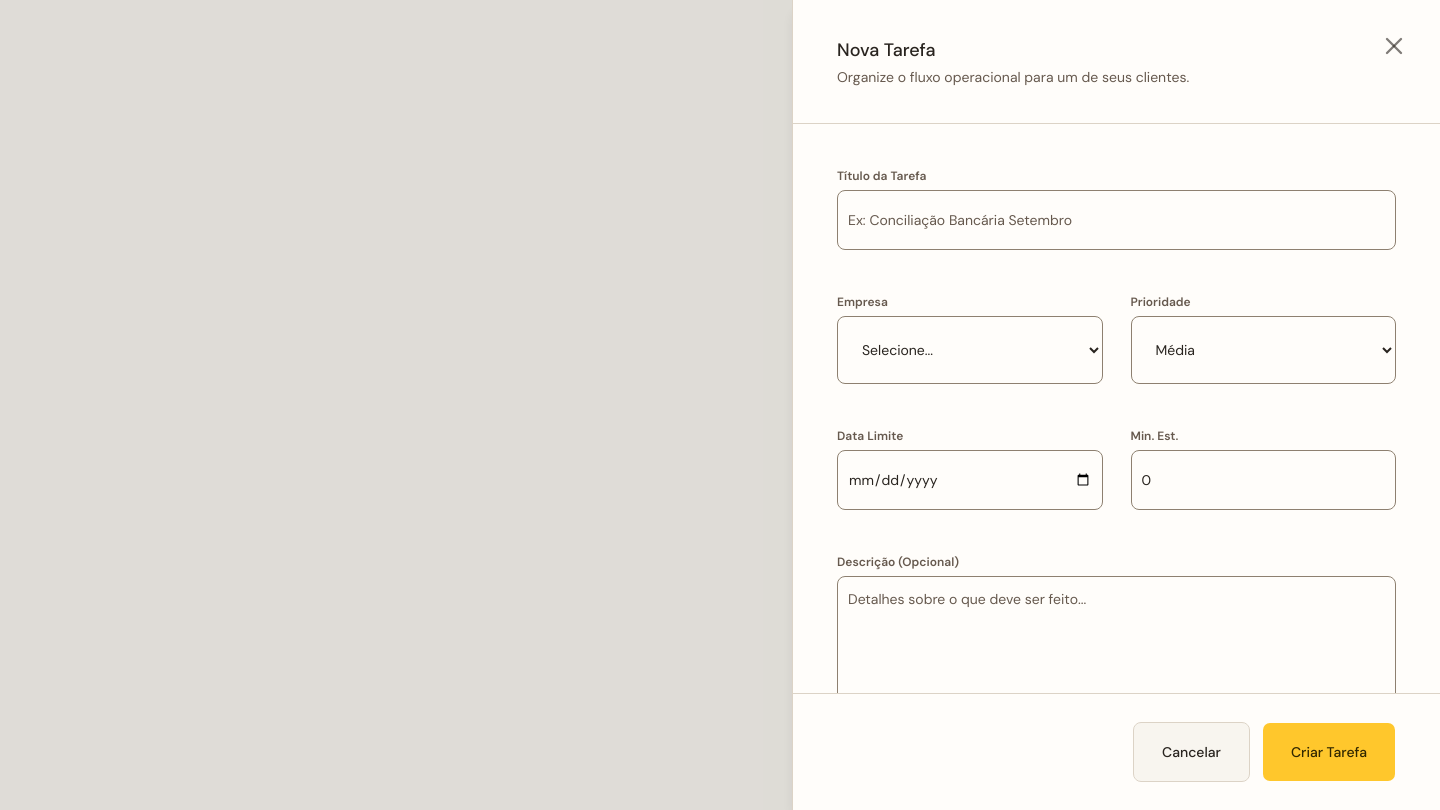
Test case: TaskDrawer — validation and save errors (AUD-020) › a failed save shows the reason and keeps the drawer open with the data
This screenshot has width=1440, height=810.
Type "Conciliar extratos" into the field with placeholder "Ex: Conciliação Bancária Setembro".
click(1116, 220); type("Conciliar extratos")  # box left=837, top=190, right=1396, bottom=250
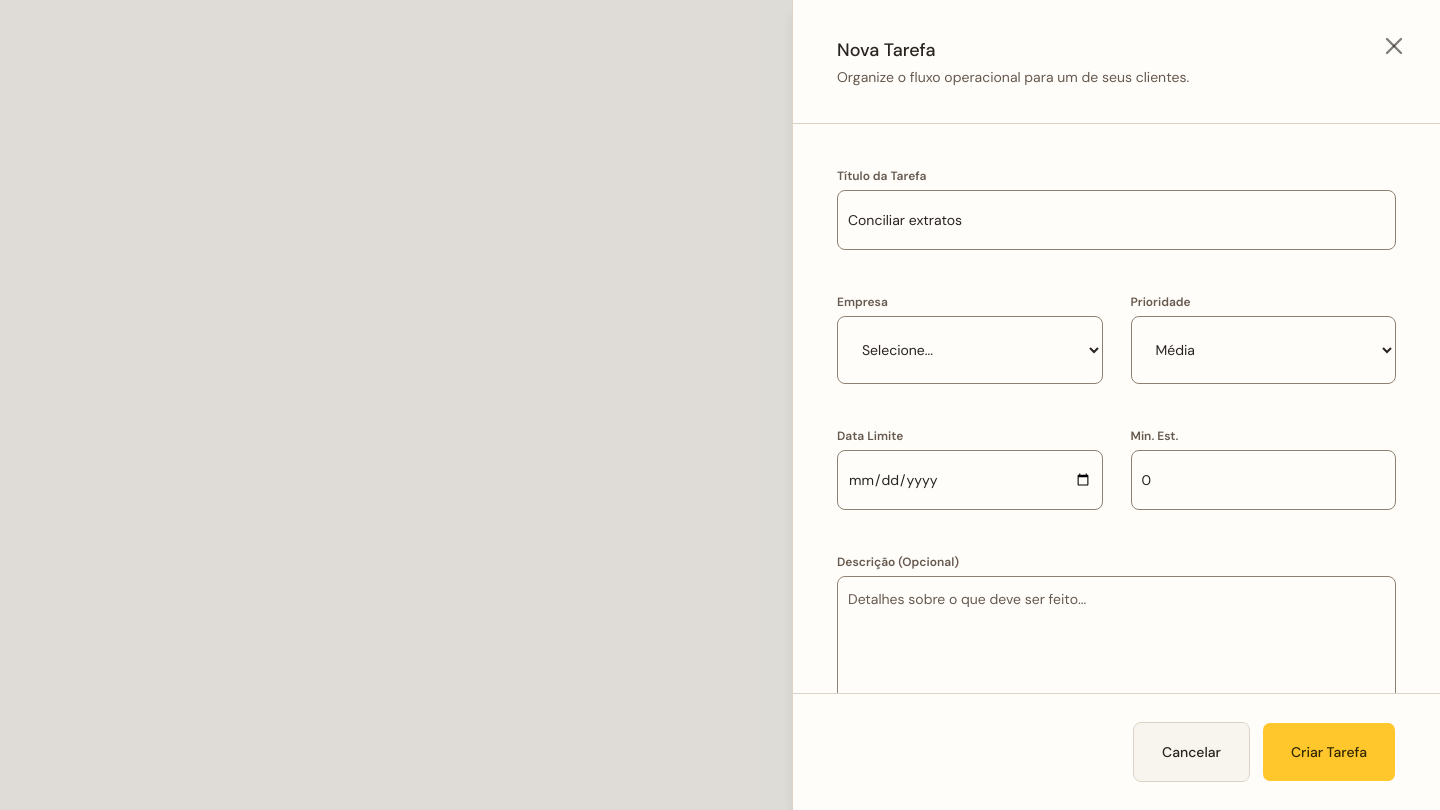
Select "Empresa Alpha" in the dropdown named "Empresa Alpha" below "Empresa" at (970,350), box left=837, top=316, right=1102, bottom=384
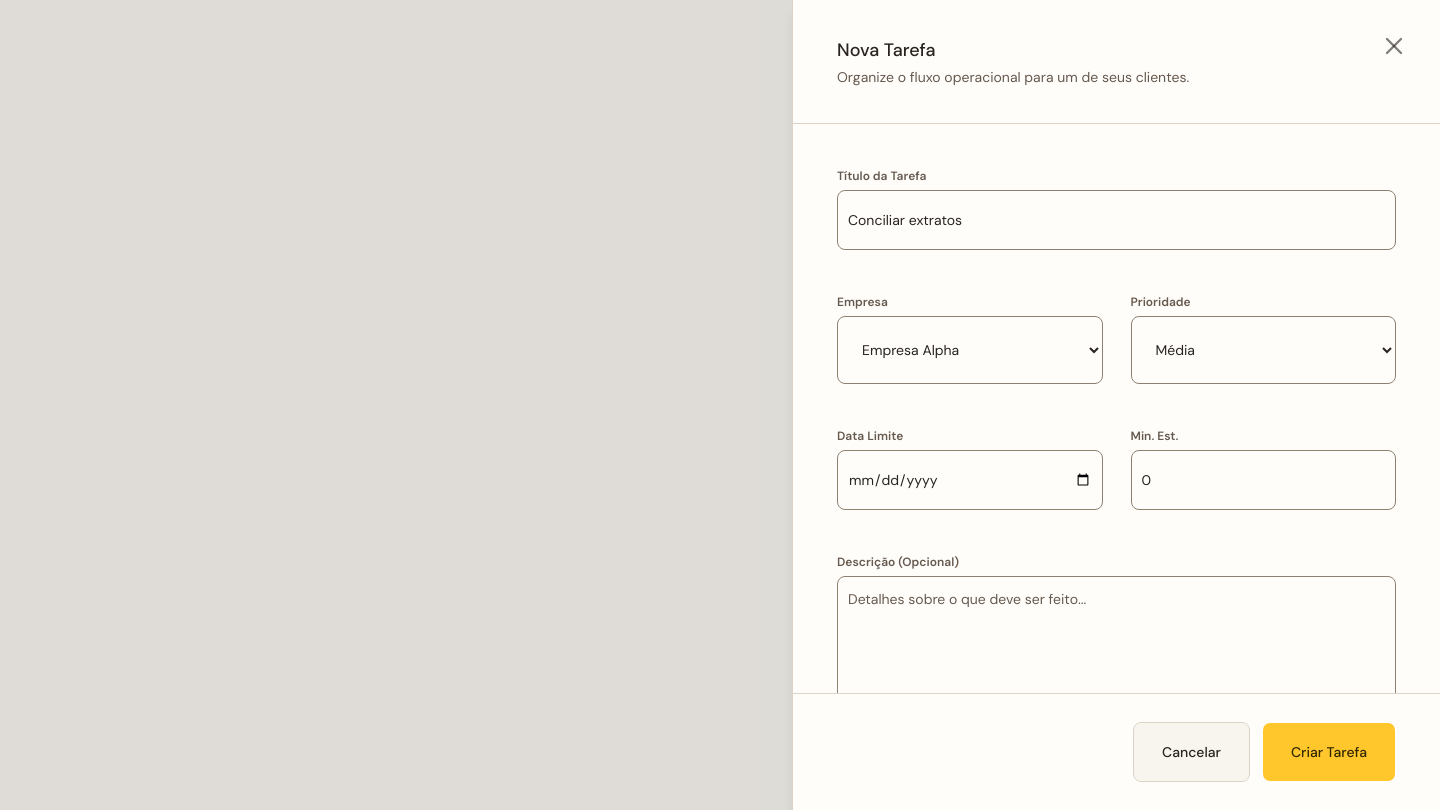
Click the button "Criar Tarefa".
click(1329, 752)  # box left=1262, top=722, right=1396, bottom=782
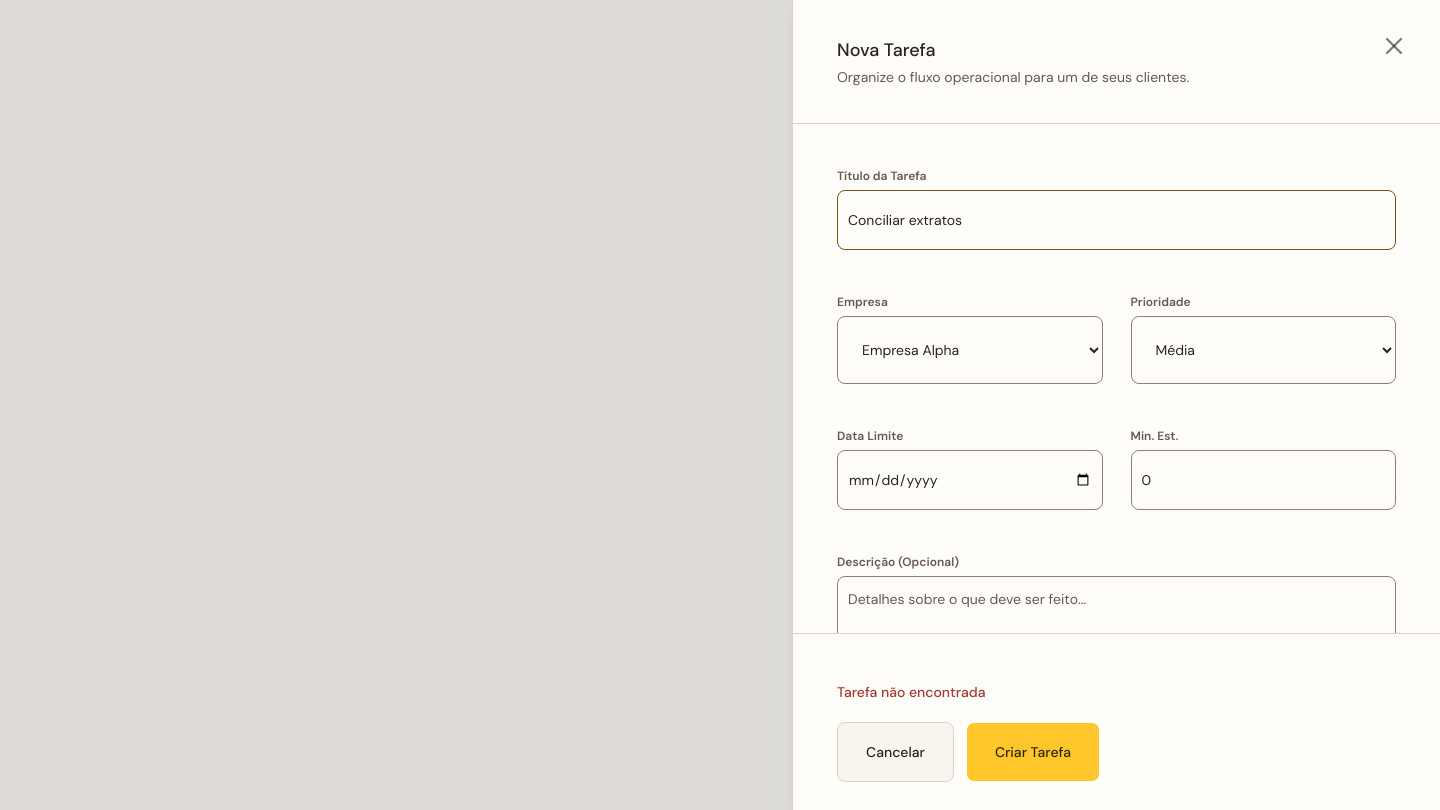
Result: the message reads "Tarefa não encontrada" at left=837, top=683, right=986, bottom=701
